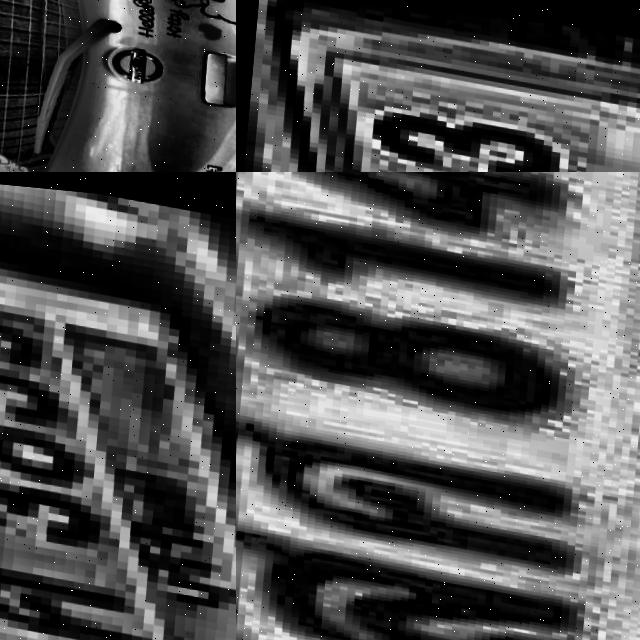license-plate: (236, 172, 640, 640), (0, 225, 236, 640), (236, 0, 640, 172)
